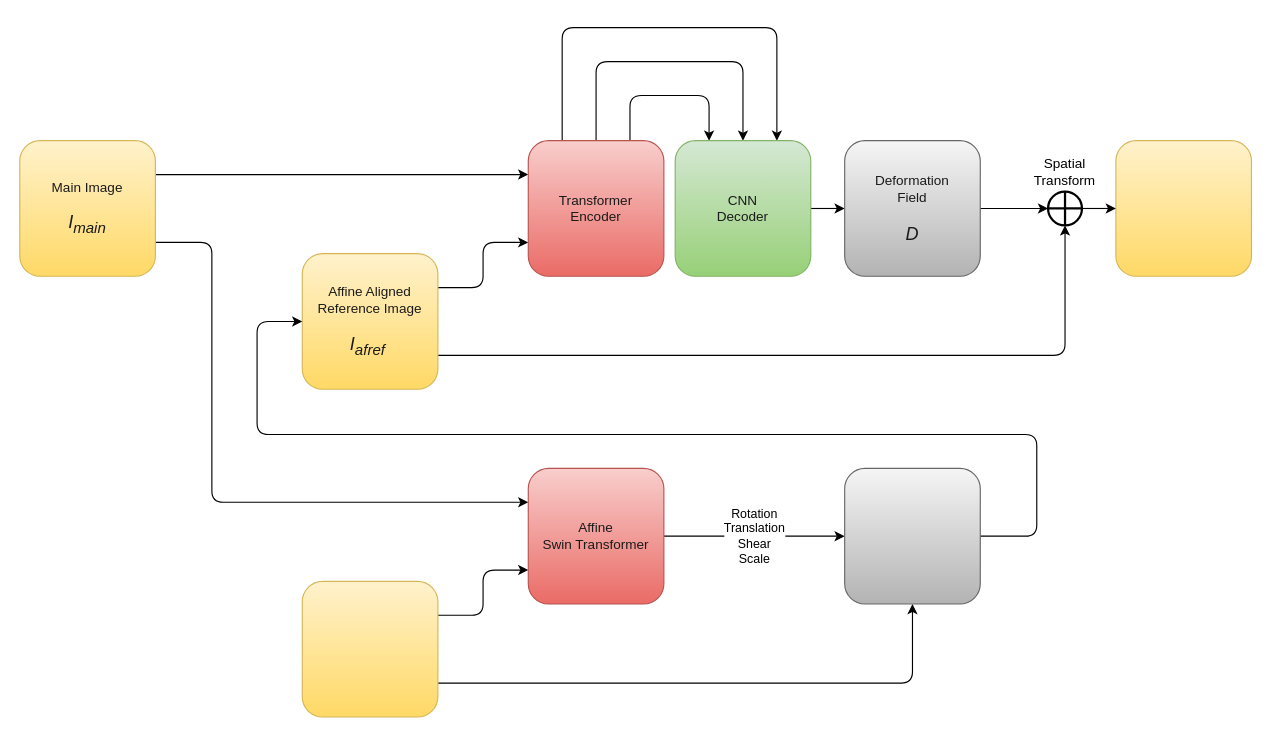
Image size: 1271x737. Some labels were removed from this diagram. Each missing label, with the box of its shape:
Affine Transform A: (844, 467, 980, 604)
Deformed Image I def: (1115, 140, 1251, 276)
Reference Image I ref: (301, 580, 438, 717)
